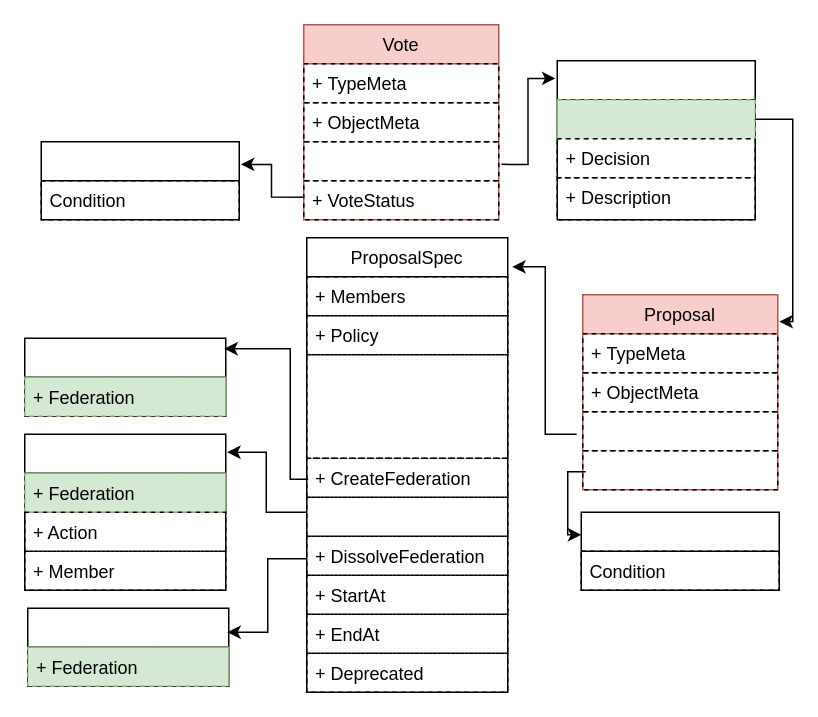
Image size: 818x717. Some labels were removed from this diagram. The box of each missing label's shape, as (x1, y1, x2, y2) in pixels:
+ ChangeMember: (305, 496, 508, 536)
+ ProposalID: (556, 98, 755, 139)
+ ProposalSpec: (581, 410, 778, 451)
+ ProposalStatus: (581, 449, 778, 490)
+ Type - CreateFederation - ChangeMember - DissolveFederation: (305, 353, 508, 458)
+ VoteSpec: (302, 140, 499, 181)
ChangeMember: (23, 433, 226, 590)
CreateFederation: (23, 337, 226, 416)
DissolveFederation: (26, 607, 229, 686)
ProposalStatus: (580, 511, 779, 590)
VoteSpec: (556, 59, 755, 220)
VoteStatus: (40, 140, 239, 220)
